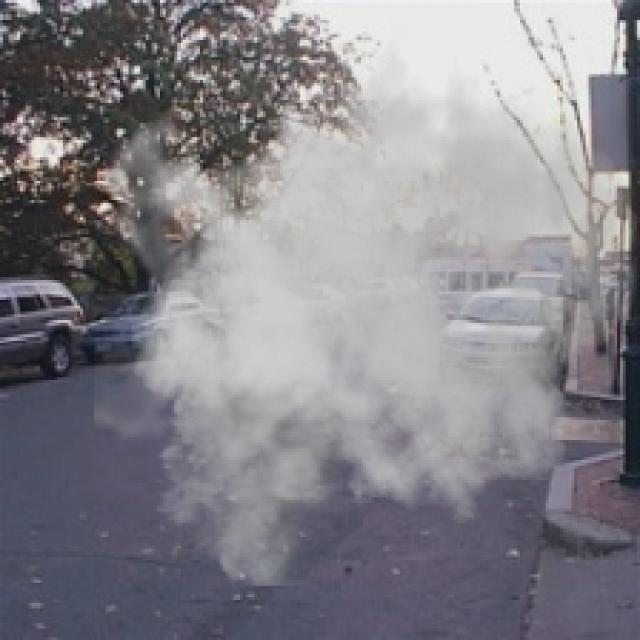smoke: (94, 17, 637, 589)
